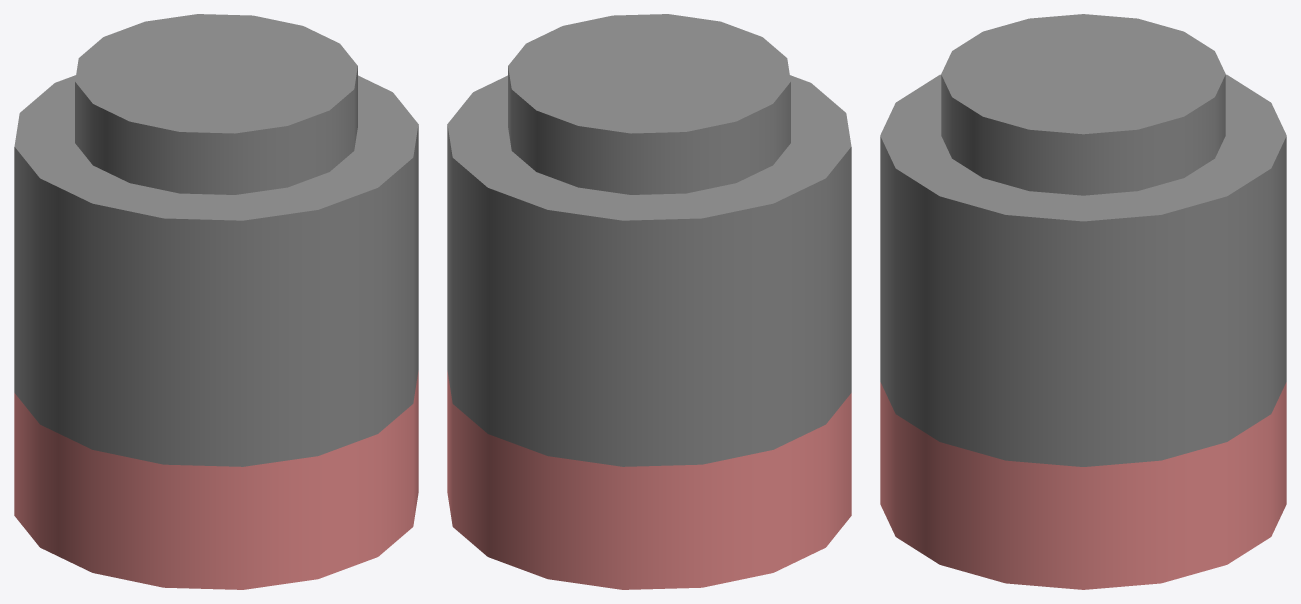
File: SM_Thruster_1x1x1.gltf
The picture shows the model from 3 angles, left to right: view 1: azimuth 30°, elevation 25°; view 2: azimuth 150°, elevation 25°; view 3: azimuth 270°, elevation 25°; orthographic projection.
Parts seen in each view (by area): view 1: SM_Thruster_1x1x1; view 2: SM_Thruster_1x1x1; view 3: SM_Thruster_1x1x1.
Part boxes in pixels (box(x1,y1,x2,y2)): SM_Thruster_1x1x1: box(14, 14, 418, 589); SM_Thruster_1x1x1: box(447, 14, 851, 589); SM_Thruster_1x1x1: box(880, 14, 1286, 589).
Bounding box in the file's own units: 0.3 × 0.35 × 0.3.
